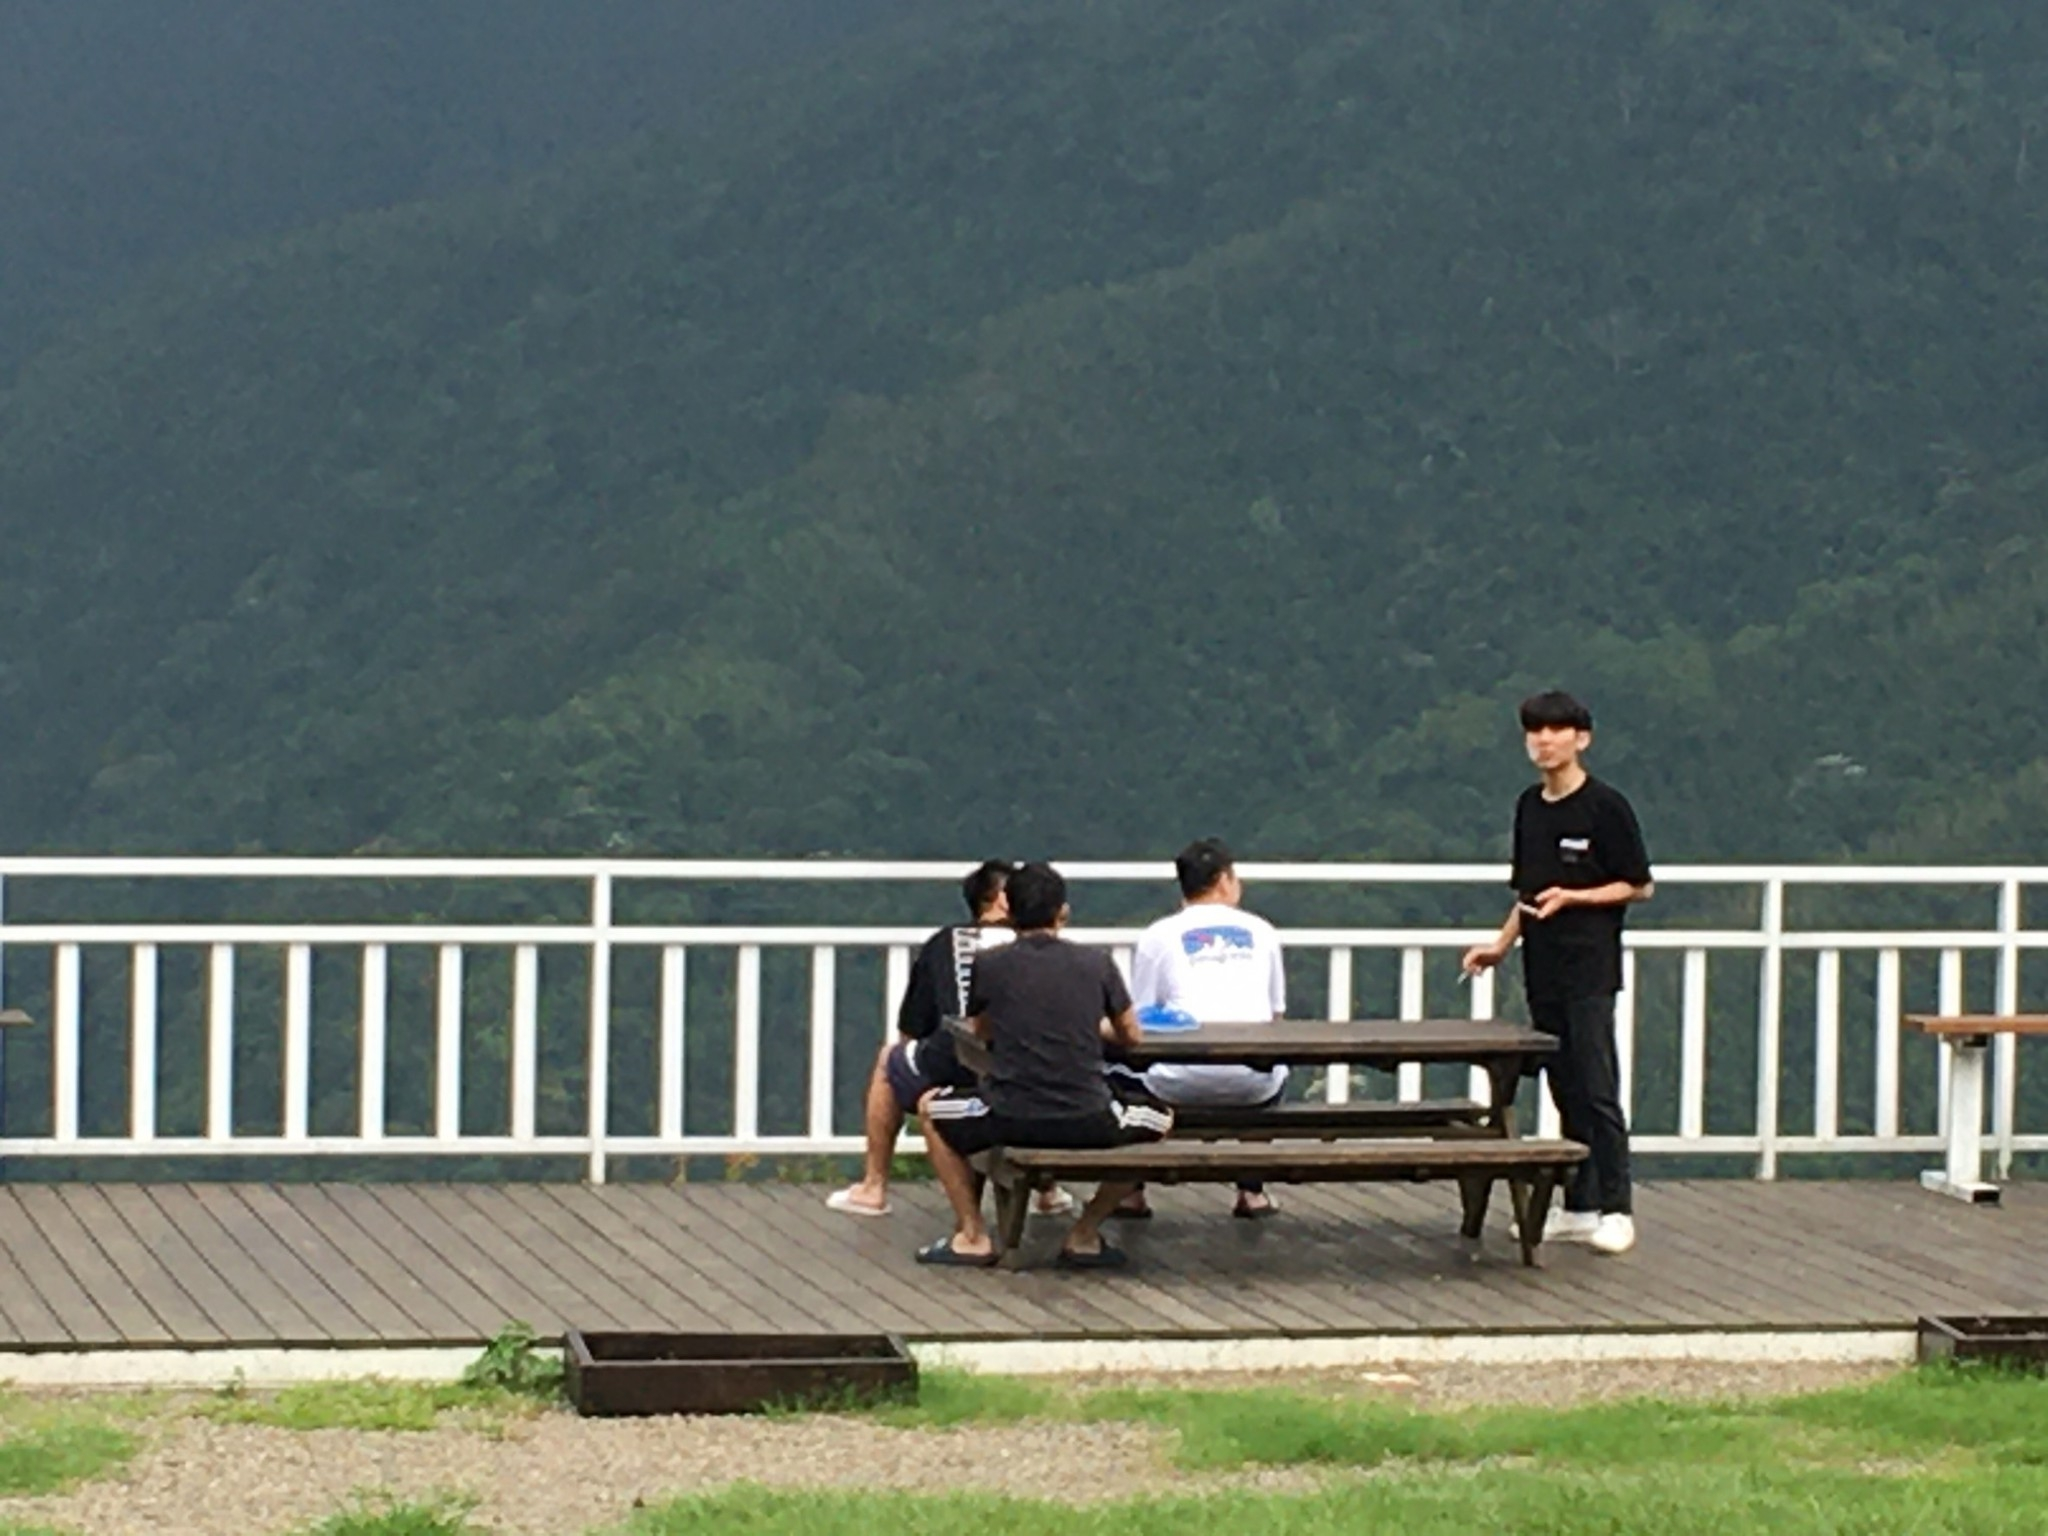people: (1493, 684, 1657, 1269), (946, 866, 1137, 1260), (1131, 840, 1281, 1208), (890, 858, 1019, 1208)
